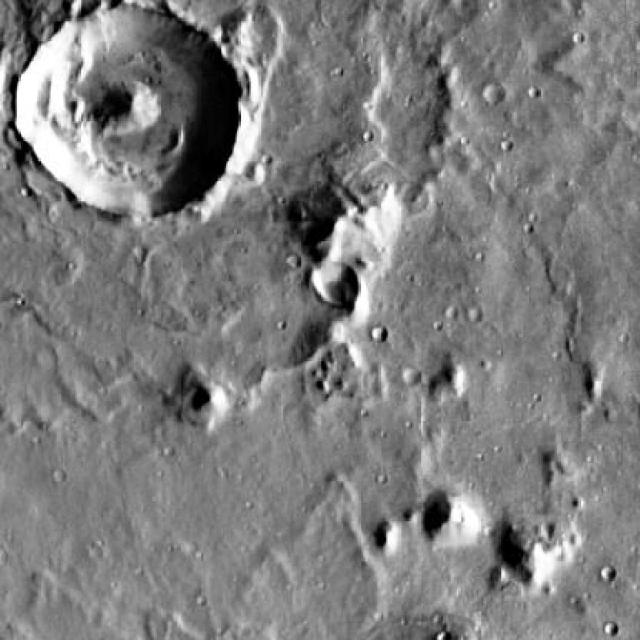crater: (16, 5, 238, 221), (311, 263, 358, 311), (483, 83, 505, 103), (402, 365, 421, 384), (368, 324, 387, 341)
